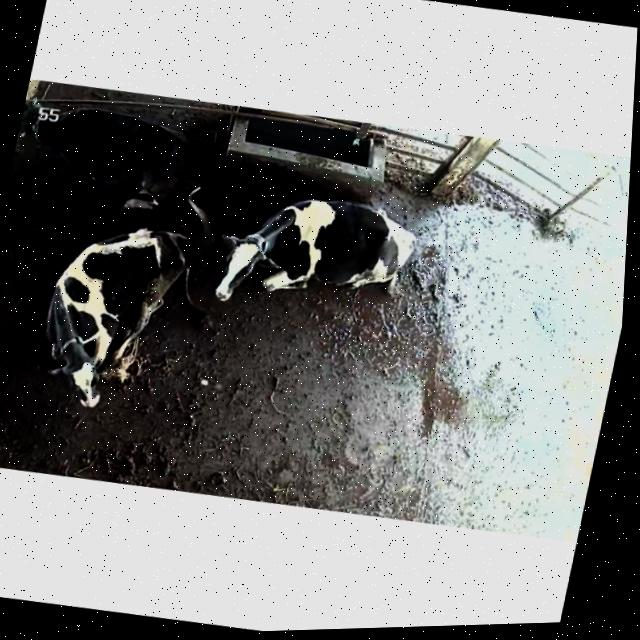lay: (5, 204, 228, 446), (200, 170, 453, 345), (3, 89, 228, 231)
